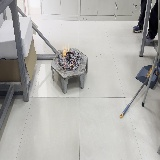fire: (62, 43, 69, 57), (70, 64, 72, 68)
